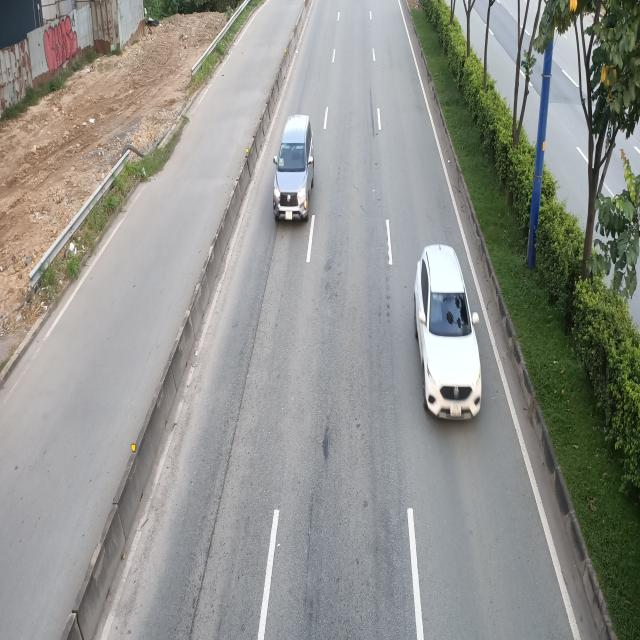car: (412, 246, 481, 424), (272, 114, 314, 222)
